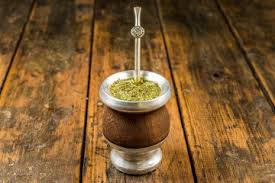mate: (99, 69, 173, 176)
